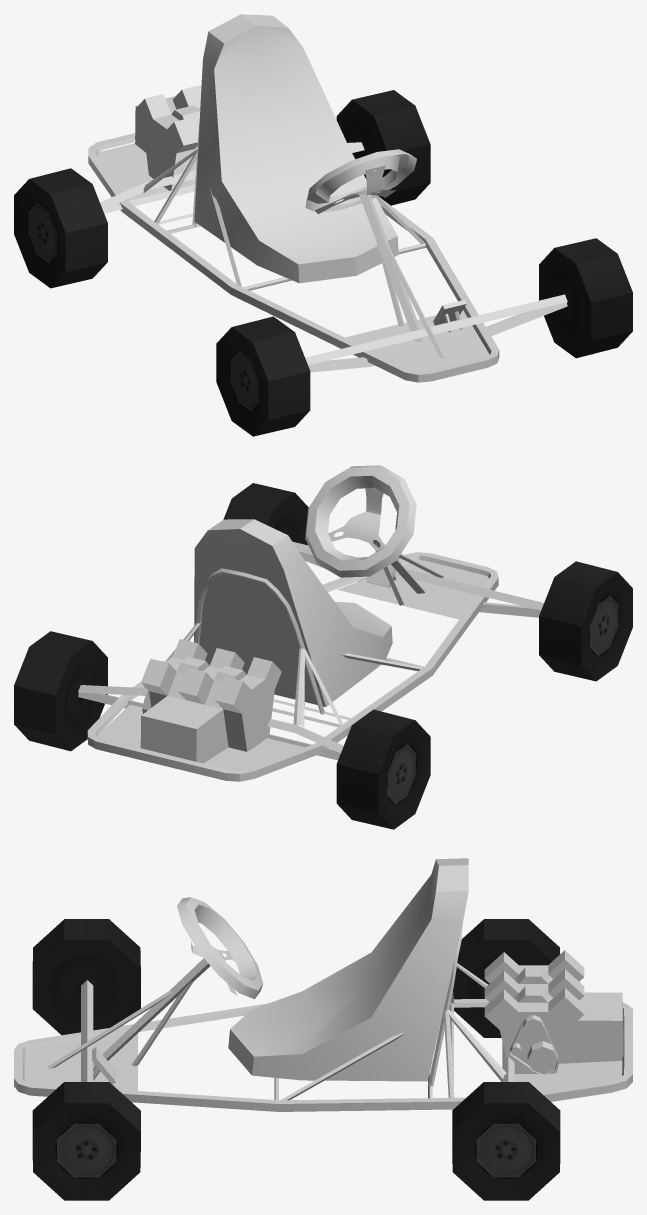
The model's file is lod_1_gltf.gltf.
The picture shows the model from 3 angles, top to bottom: view 1: azimuth 30°, elevation 25°; view 2: azimuth 150°, elevation 25°; view 3: azimuth 270°, elevation 25°; orthographic projection. The views are drawn at different scales.
Parts seen in each view (by area): view 1: Chasis_1, Wheel_FL_1, Wheel_FR_1, Wheel_BR_1, Wheel_BL_1, rimflat_BR_1, rimflat_FR_1; view 2: Chasis_1, Wheel_BL_1, Wheel_BR_1, Wheel_FR_1, Wheel_FL_1, rimflat_BR_1, rimflat_FR_1; view 3: Chasis_1, Wheel_FR_1, Wheel_BL_1, Wheel_FL_1, Wheel_BR_1, rimflat_BL_1, rimflat_FL_1.
Boxes of the visible parts, <box> form: Chasis_1: <box>88,14,567,382</box>; Wheel_FL_1: <box>539,238,632,358</box>; Wheel_FR_1: <box>216,316,310,436</box>; Wheel_BR_1: <box>14,168,107,288</box>; Wheel_BL_1: <box>336,90,430,205</box>; rimflat_BR_1: <box>28,203,56,262</box>; rimflat_FR_1: <box>231,351,259,410</box>; Chasis_1: <box>78,465,543,781</box>; Wheel_BL_1: <box>14,631,107,751</box>; Wheel_BR_1: <box>336,709,430,829</box>; Wheel_FR_1: <box>539,561,632,681</box>; Wheel_FL_1: <box>223,483,308,545</box>; rimflat_BR_1: <box>387,744,415,804</box>; rimflat_FR_1: <box>590,596,618,655</box>; Chasis_1: <box>14,858,632,1111</box>; Wheel_FR_1: <box>32,919,140,1035</box>; Wheel_BL_1: <box>452,1082,560,1200</box>; Wheel_FL_1: <box>32,1082,140,1200</box>; Wheel_BR_1: <box>453,919,559,1037</box>; rimflat_BL_1: <box>476,1123,535,1177</box>; rimflat_FL_1: <box>57,1123,116,1177</box>.
Bounding box in the file's own units: 1.37 × 0.8467 × 1.95.
Materials: 2 (1 with a texture image).
